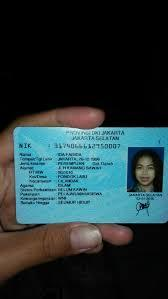ID-card: (16, 127, 166, 222)
